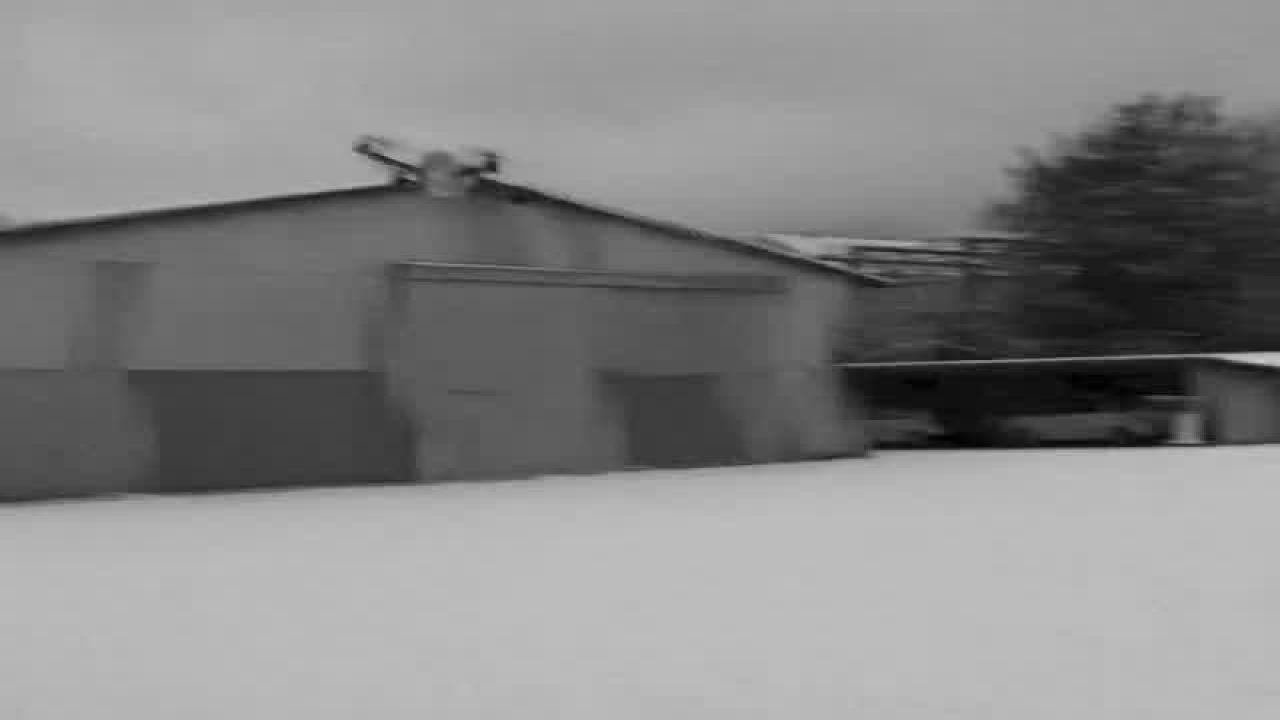Drone: (345, 128, 523, 213)
